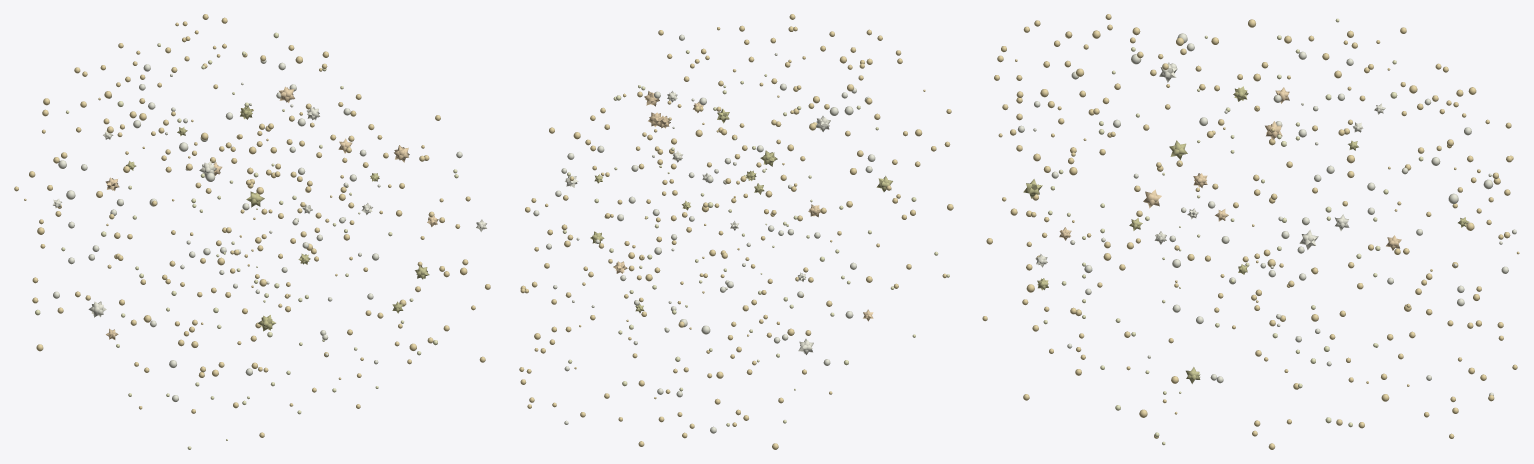
The model's file is starDomewinter.fbx.
3 renders of one model, left to right at view 1: azimuth 30°, elevation 25°; view 2: azimuth 150°, elevation 25°; view 3: azimuth 270°, elevation 25°, orthographic. The views are drawn at different scales.
Visible parts, largest first — view 1: big, giza, middle; view 2: big, giza, middle; view 3: big, giza, middle.
Part boxes in pixels (x1,y1,x2,y2): big: (14,14,490,437); giza: (35,32,486,449); middle: (53,60,462,401); big: (519,14,953,449); giza: (562,50,949,426); middle: (533,34,875,433); big: (982,14,1519,449); giza: (1023,18,1469,436); middle: (1017,33,1516,395).
Bounding box in the file's own units: 1220 × 1209 × 1559.
